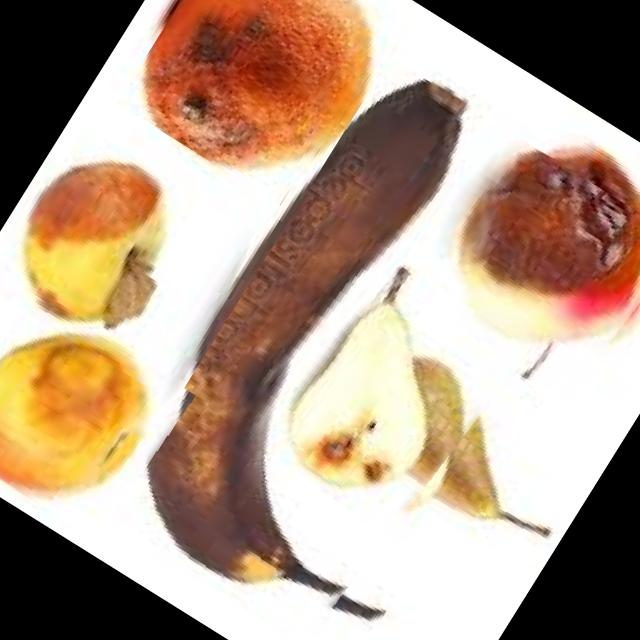Organic: (93, 57, 634, 640), (275, 306, 584, 582), (415, 113, 640, 416), (115, 0, 404, 209), (0, 131, 225, 362), (0, 296, 194, 542)
